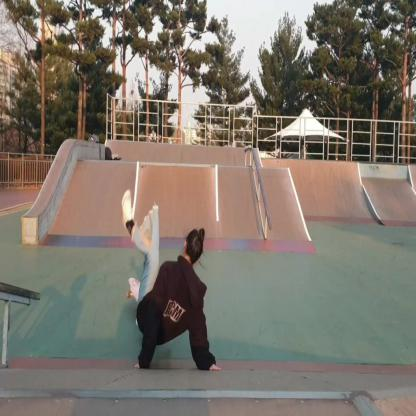Fall_Down: (118, 188, 226, 377)
